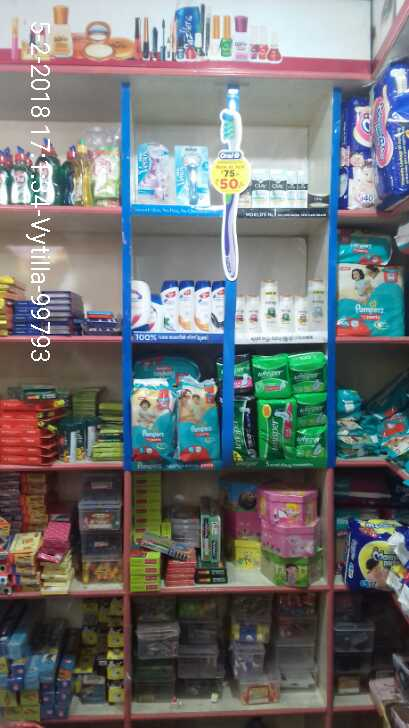venus: (136, 144, 174, 204), (174, 147, 207, 204)
